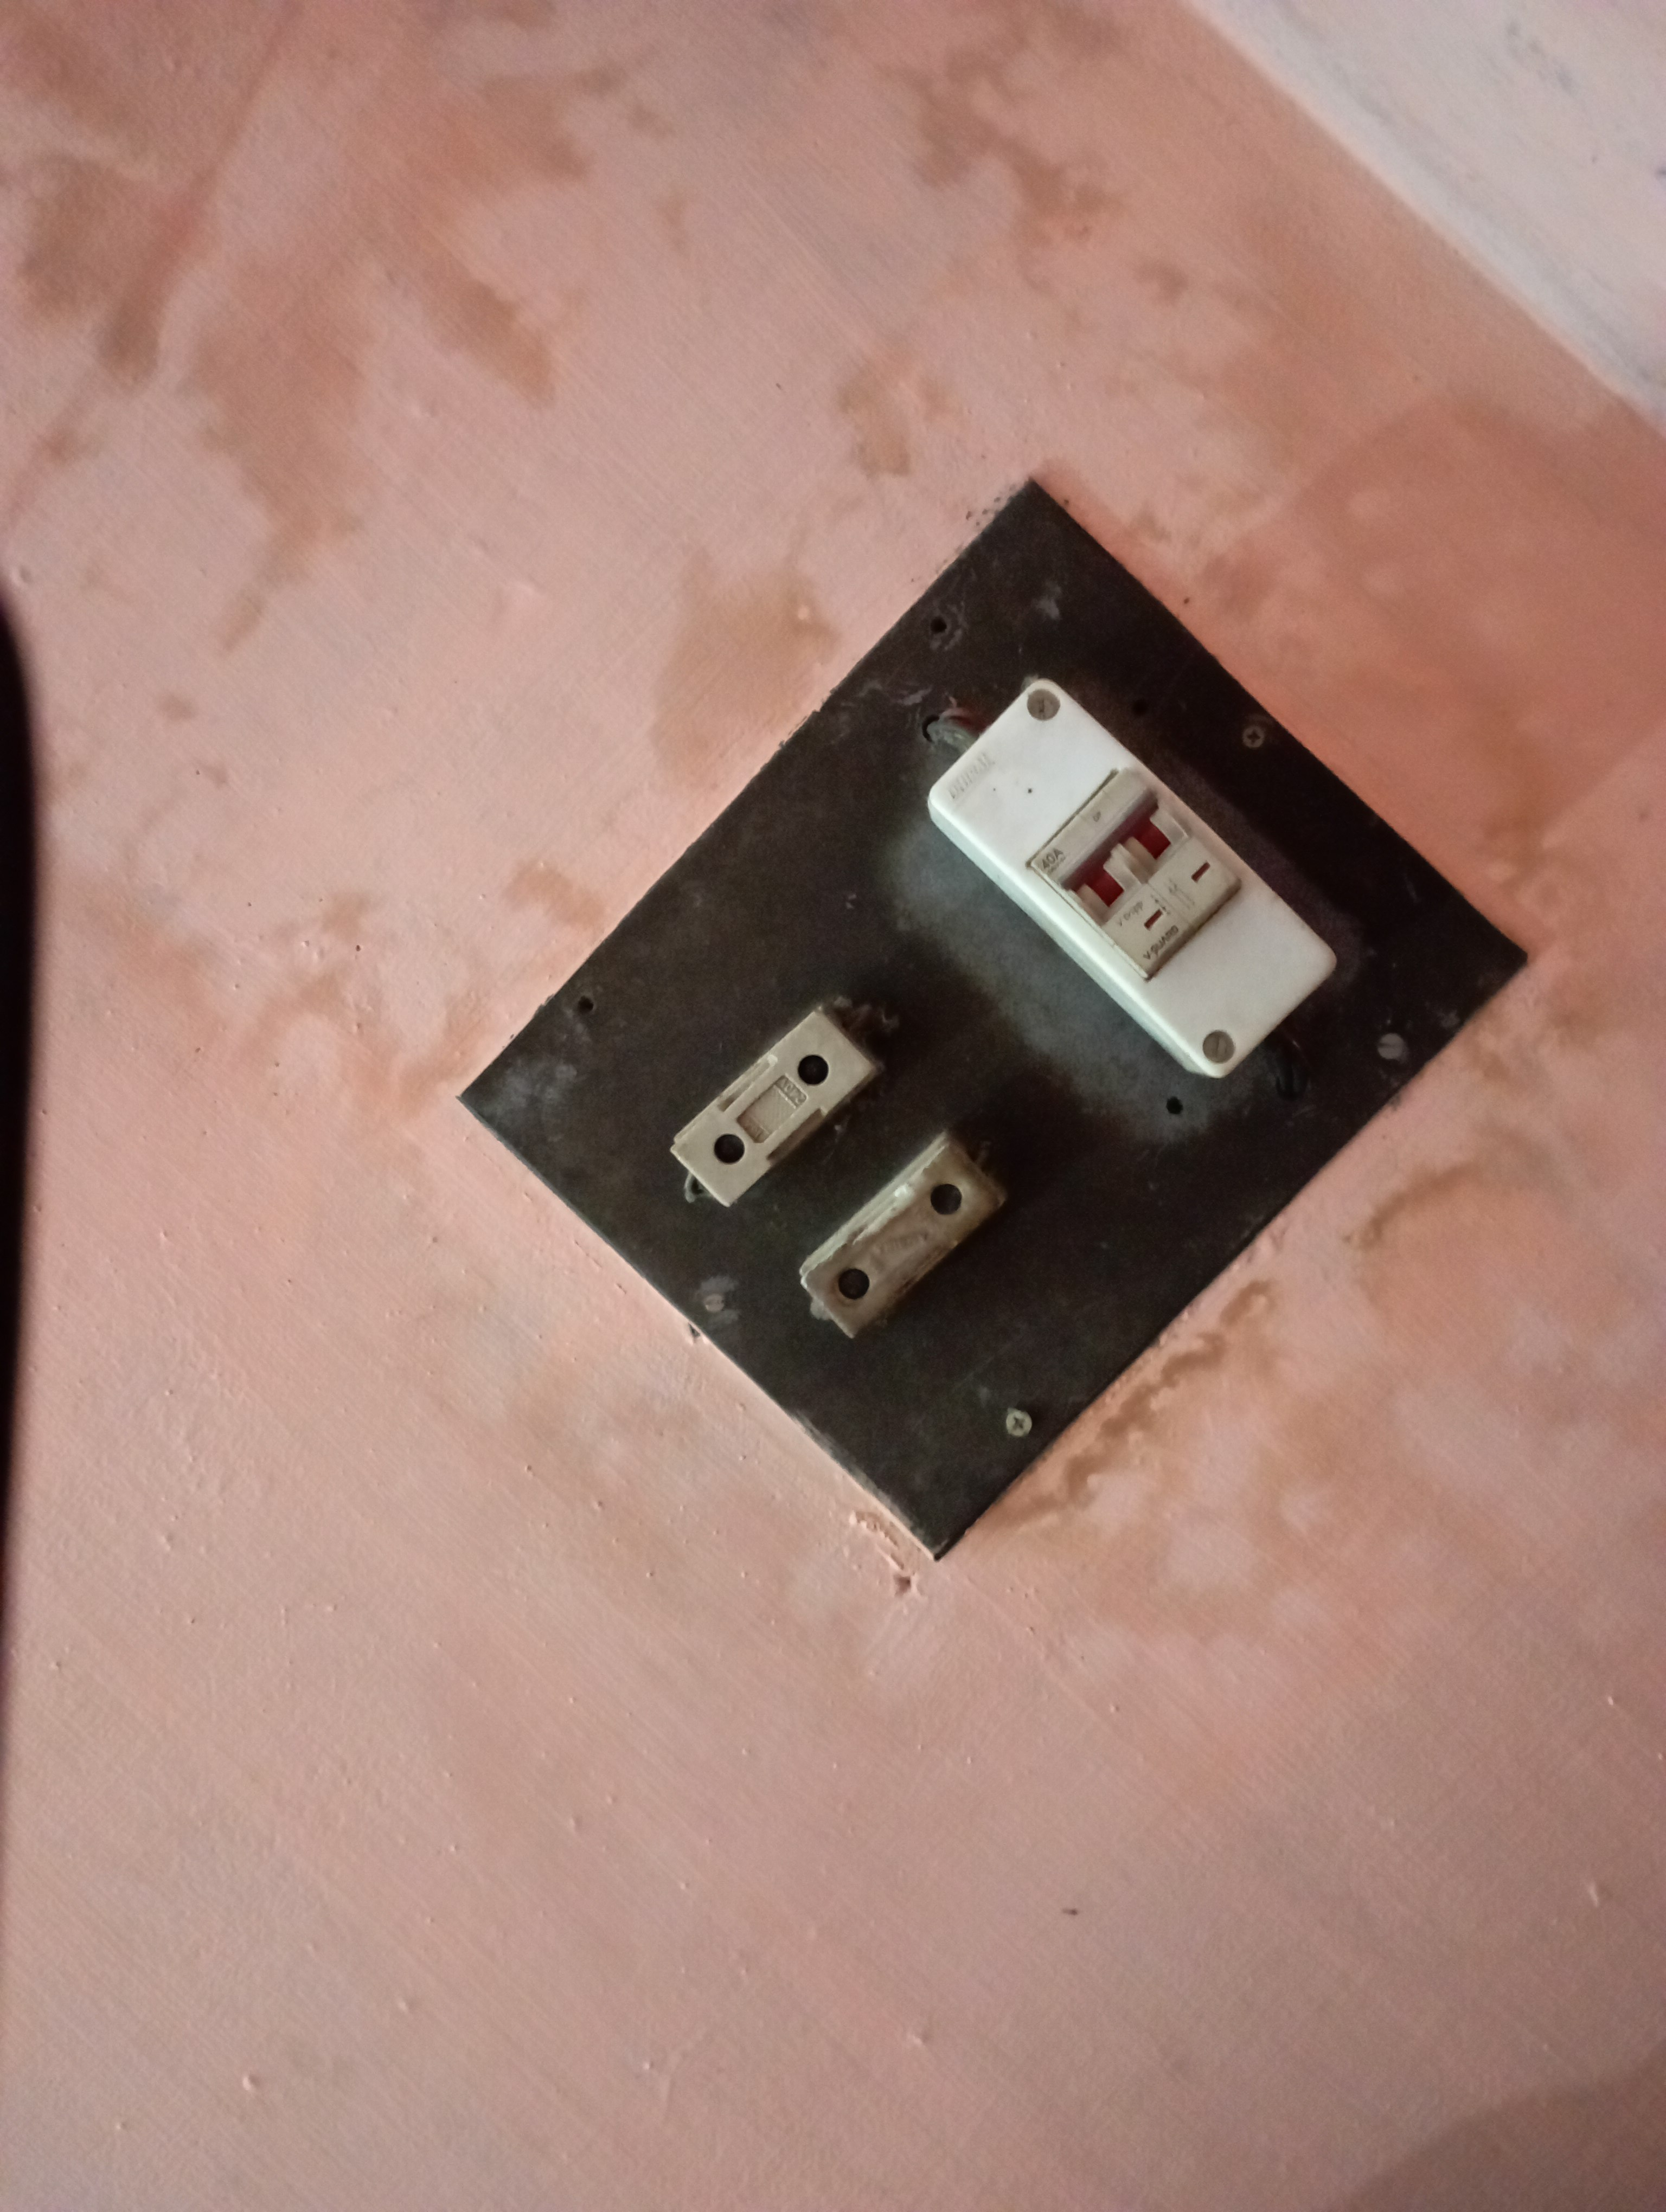ciruit_breaker: (922, 617, 1344, 1172)
fuse: (793, 1133, 1027, 1366), (656, 1009, 877, 1256)
